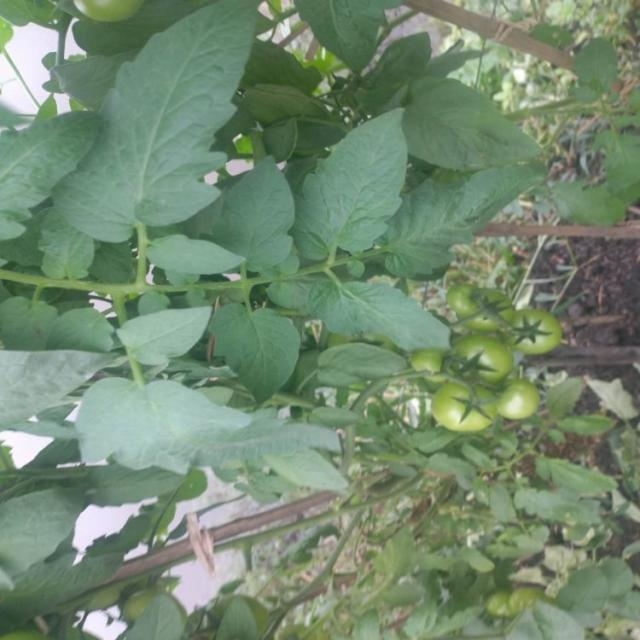tomato: (435, 254, 524, 351), (434, 307, 525, 401), (426, 365, 502, 477), (500, 276, 578, 373), (491, 352, 556, 450), (64, 1, 166, 47), (405, 333, 456, 398), (110, 581, 174, 617)
